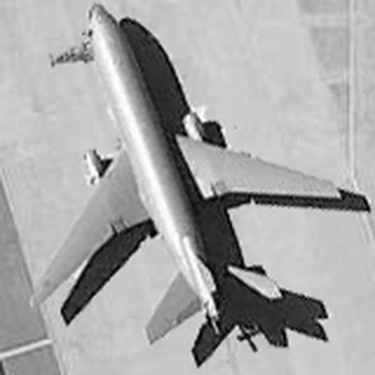airplane: (12, 1, 350, 365)
